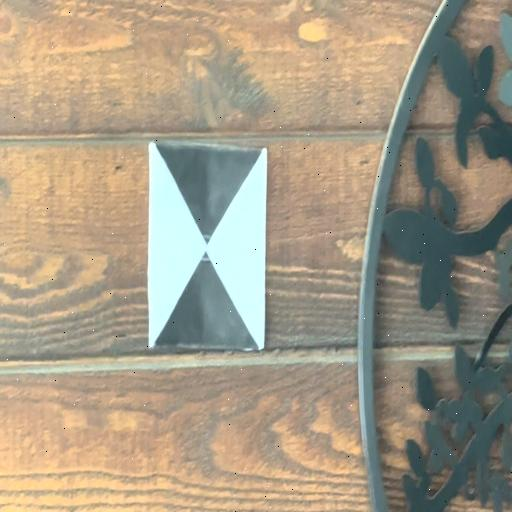target: (148, 141, 264, 349)
